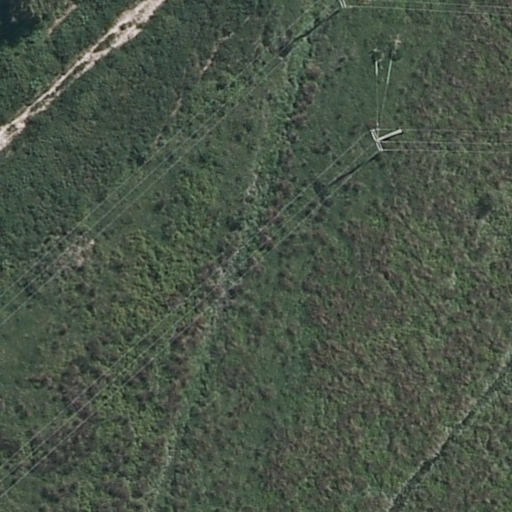DT: (365, 124, 402, 150)
